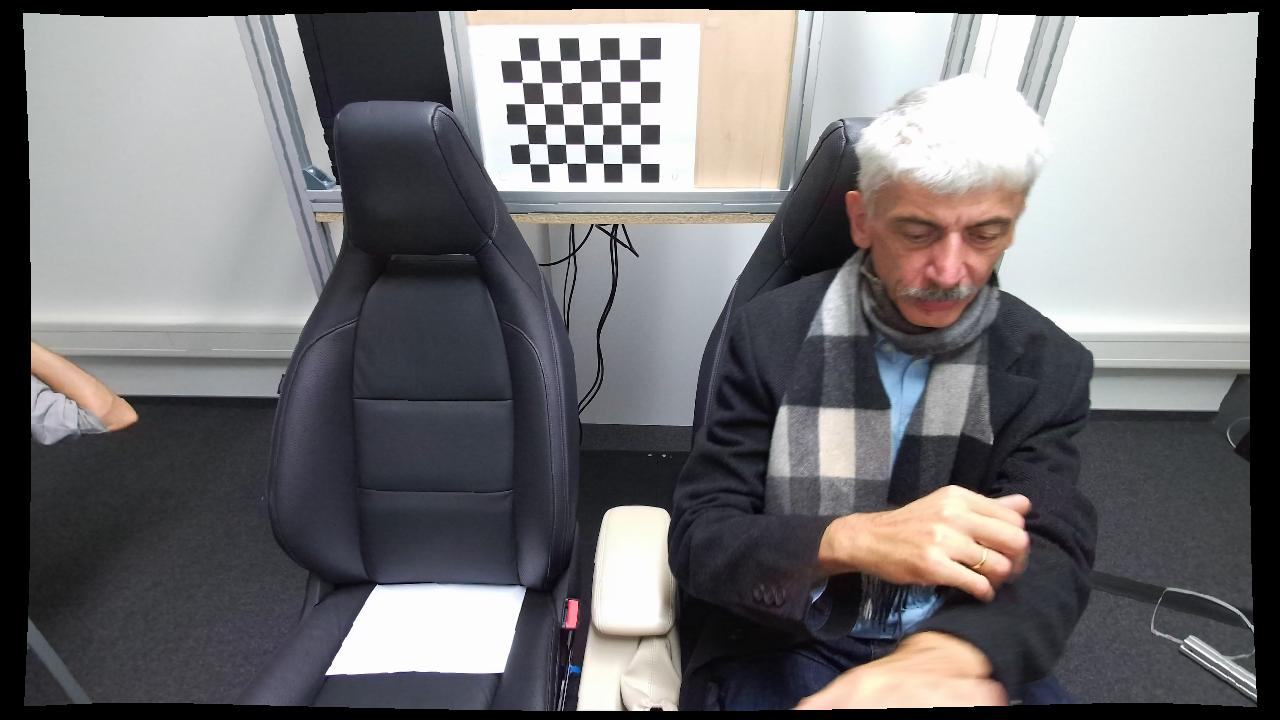Distracted: (662, 75, 1130, 711)
